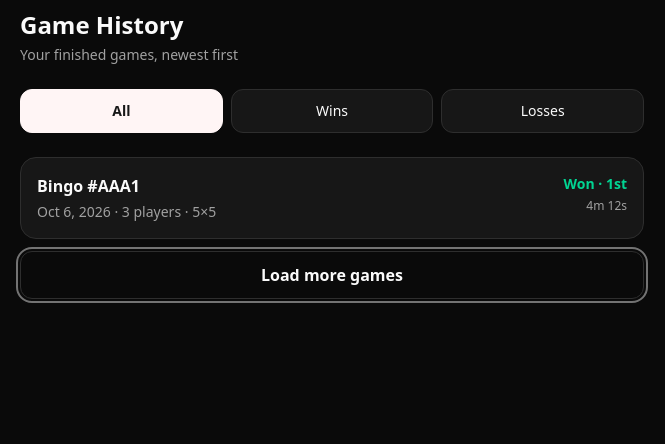
GameHistoryPage › moves focus to the first new game, so loading the last page does not lose it
Step 1. Click the button "Load more games" → click(332, 275), box [20,251,644,299]
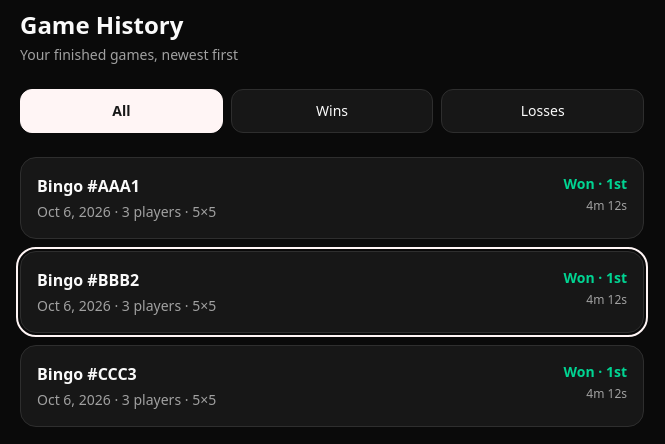
Expected: the button "Load more games" is gone
